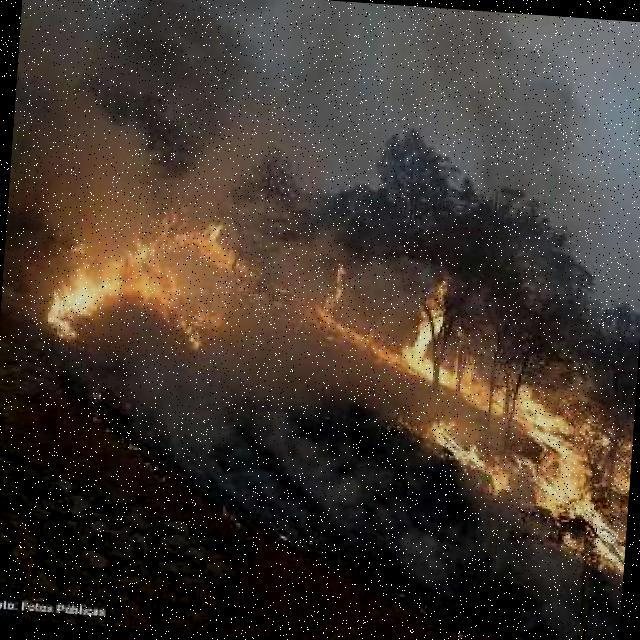Fire: (291, 273, 635, 565), (36, 201, 240, 360)
Smoke: (73, 328, 430, 522), (81, 0, 268, 225), (287, 517, 601, 640)
